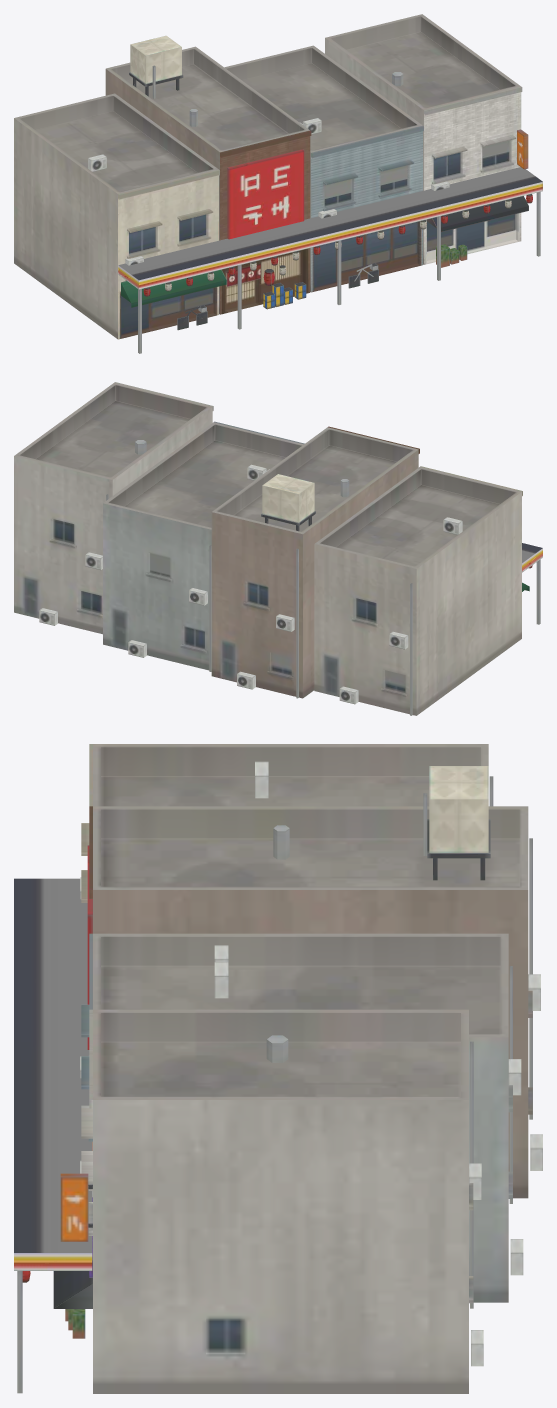
The model's file is tokyo_lowrise_a.glb.
3 views of the same model, one above another, from view 1: azimuth 30°, elevation 25°; view 2: azimuth 150°, elevation 25°; view 3: azimuth 270°, elevation 25° (orthographic). The views are drawn at different scales.
Visible parts, largest first — view 1: tokyo_lowrise_a; view 2: tokyo_lowrise_a; view 3: tokyo_lowrise_a.
Boxes of the visible parts, x1,y1,x2,y2 form: tokyo_lowrise_a: [14, 14, 542, 353]; tokyo_lowrise_a: [14, 382, 542, 715]; tokyo_lowrise_a: [14, 744, 542, 1393].
Size of the model in its own units: 22.4 by 10.1 by 13.37.
1 material, 1 textured.
